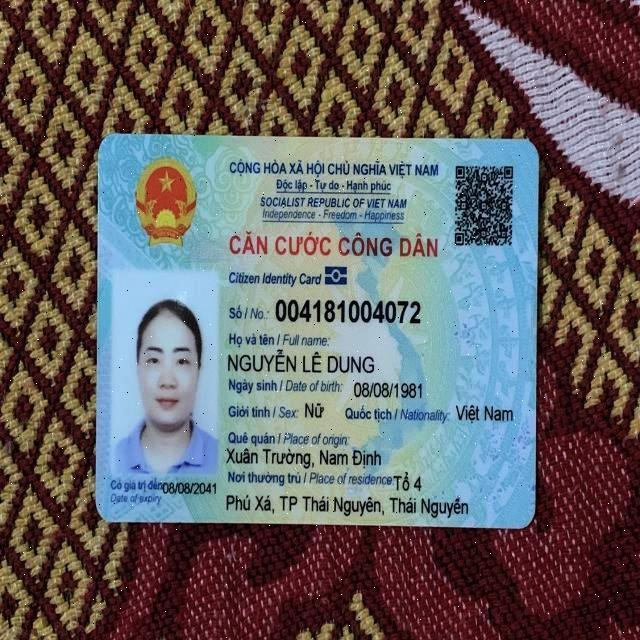current_place: (219, 493, 473, 521), (390, 465, 433, 494)
dob: (348, 378, 432, 402)
expire_date: (160, 474, 221, 499)
gender: (300, 399, 326, 421)
id: (271, 293, 429, 328)
name: (223, 346, 387, 379)
nationality: (450, 399, 517, 426)
origin_place: (222, 443, 387, 469)
qr: (450, 156, 525, 253)
